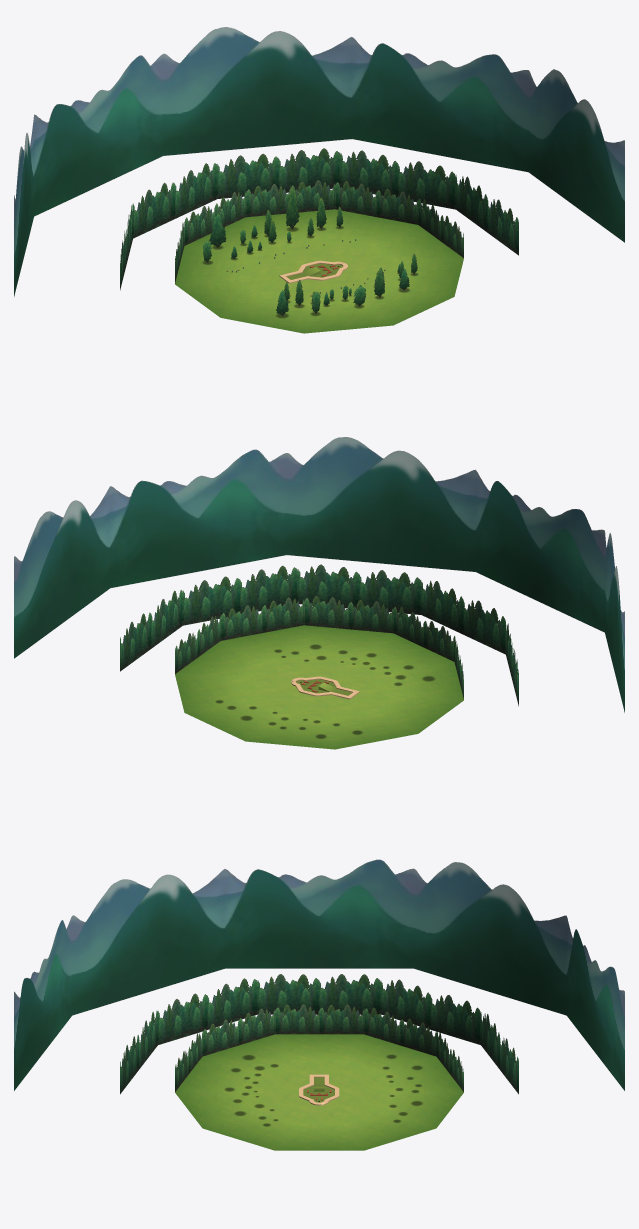
Rendered from hole16.glb.
The picture shows the model from 3 angles, top to bottom: view 1: azimuth 30°, elevation 25°; view 2: azimuth 150°, elevation 25°; view 3: azimuth 270°, elevation 25°; orthographic projection. The views are drawn at different scales.
Visible parts, largest first — view 1: background1, grass_base, background3, background2, edges1; view 2: background1, grass_base, background3, background2, edges1; view 3: background1, grass_base, background3, background2.
Boxes of the visible parts, x1,y1,x2,y2 form: background1: [14, 27, 624, 296]; grass_base: [175, 209, 463, 333]; background3: [120, 148, 518, 290]; background2: [175, 180, 463, 282]; edges1: [279, 260, 347, 283]; background1: [14, 437, 624, 712]; grass_base: [175, 625, 463, 749]; background3: [120, 564, 518, 706]; background2: [175, 596, 463, 698]; edges1: [291, 676, 359, 699]; background1: [14, 859, 624, 1090]; grass_base: [175, 1034, 463, 1150]; background3: [120, 974, 518, 1094]; background2: [175, 1004, 463, 1091].
Size of what is drawn, in the model's own units: 330 by 78.81 by 347.
Materials: 10 (9 with a texture image).
